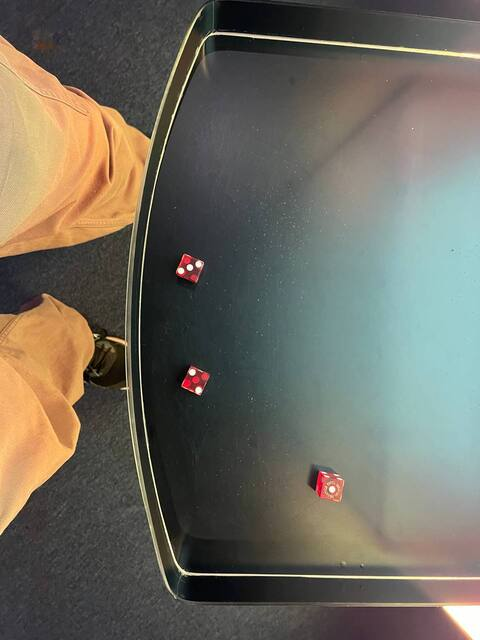one: (316, 475, 346, 503)
three: (174, 248, 209, 285)
two: (178, 362, 213, 397)
